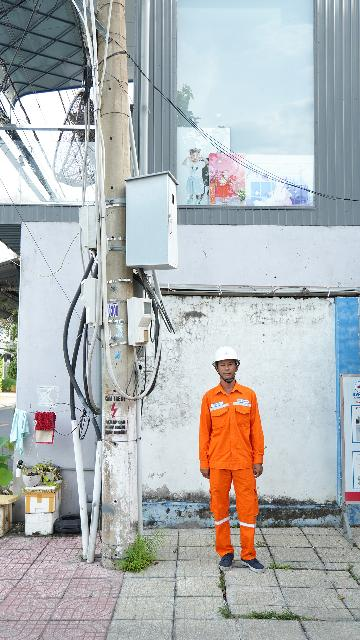helmet: (211, 344, 242, 365)
shoes: (236, 552, 268, 575), (215, 544, 238, 575)
